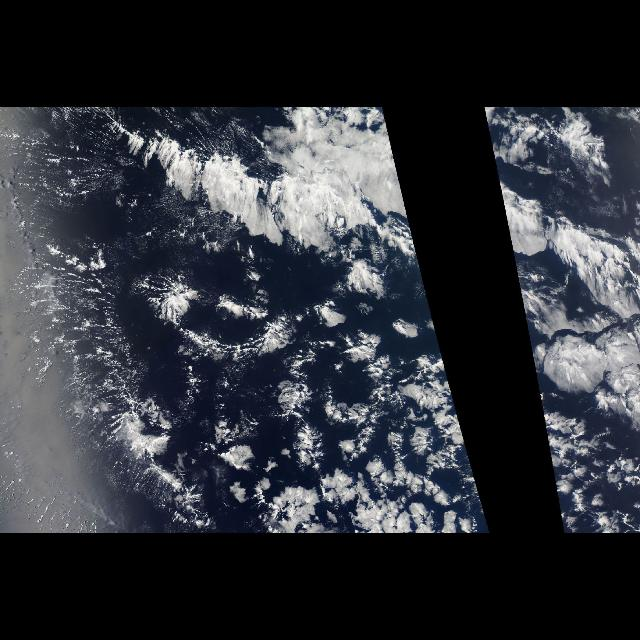Flower: (216, 292, 469, 532)
